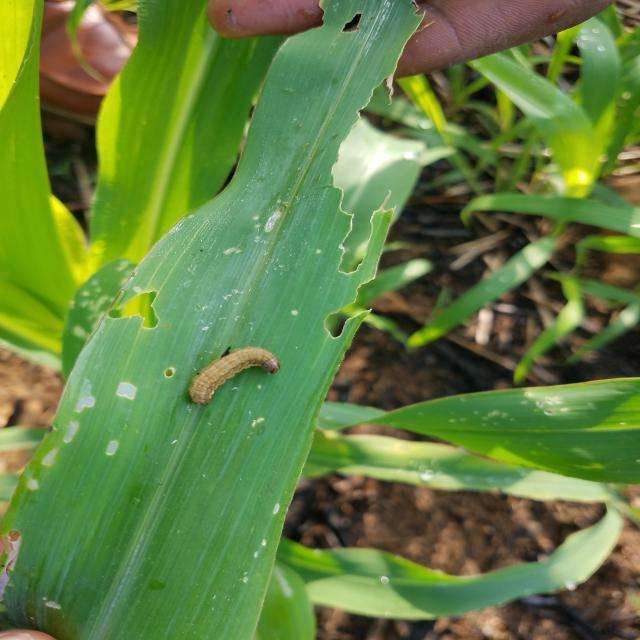yellow-stem-borer-larva: (177, 334, 287, 412)
